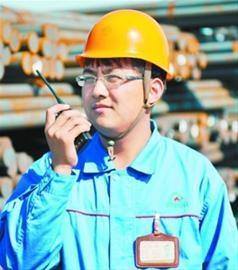helmet: (74, 7, 175, 74)
wear: (4, 154, 238, 270)
